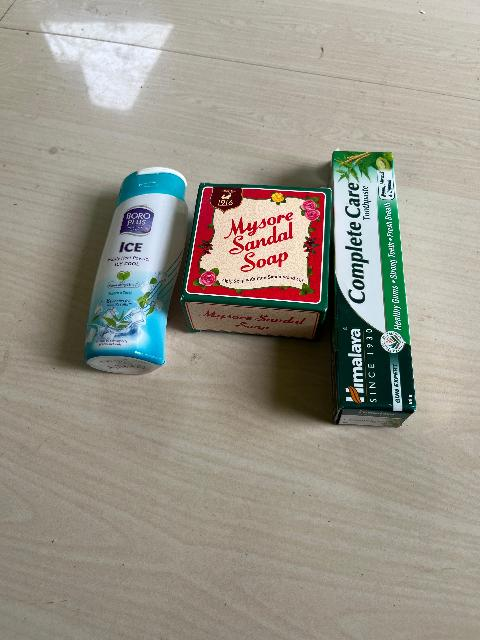boroplus: (84, 160, 186, 378)
himalaya toothpaste: (329, 153, 414, 428)
mysore sandal soap: (189, 181, 326, 335)
